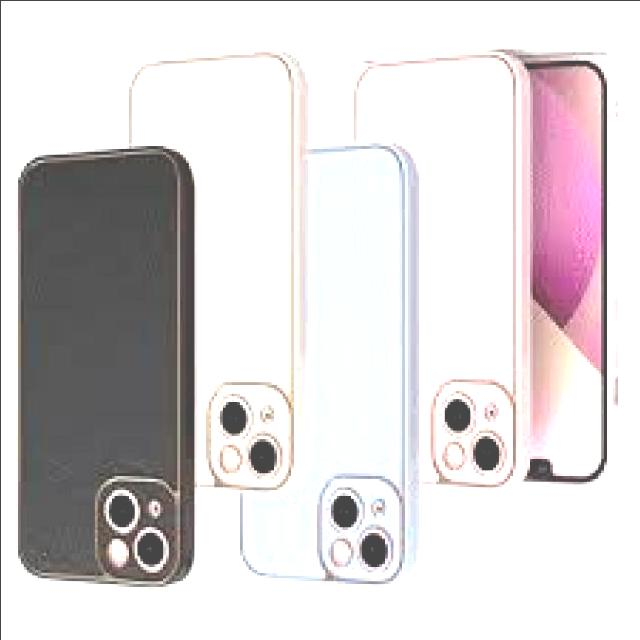lens_back: (96, 484, 144, 532), (352, 528, 396, 576), (214, 388, 252, 438), (326, 488, 368, 532), (132, 528, 172, 574), (437, 394, 479, 436), (467, 434, 507, 476), (248, 436, 283, 476)
phone: (235, 138, 427, 603), (123, 46, 301, 498), (353, 46, 531, 493), (15, 146, 189, 595), (518, 44, 617, 495)
